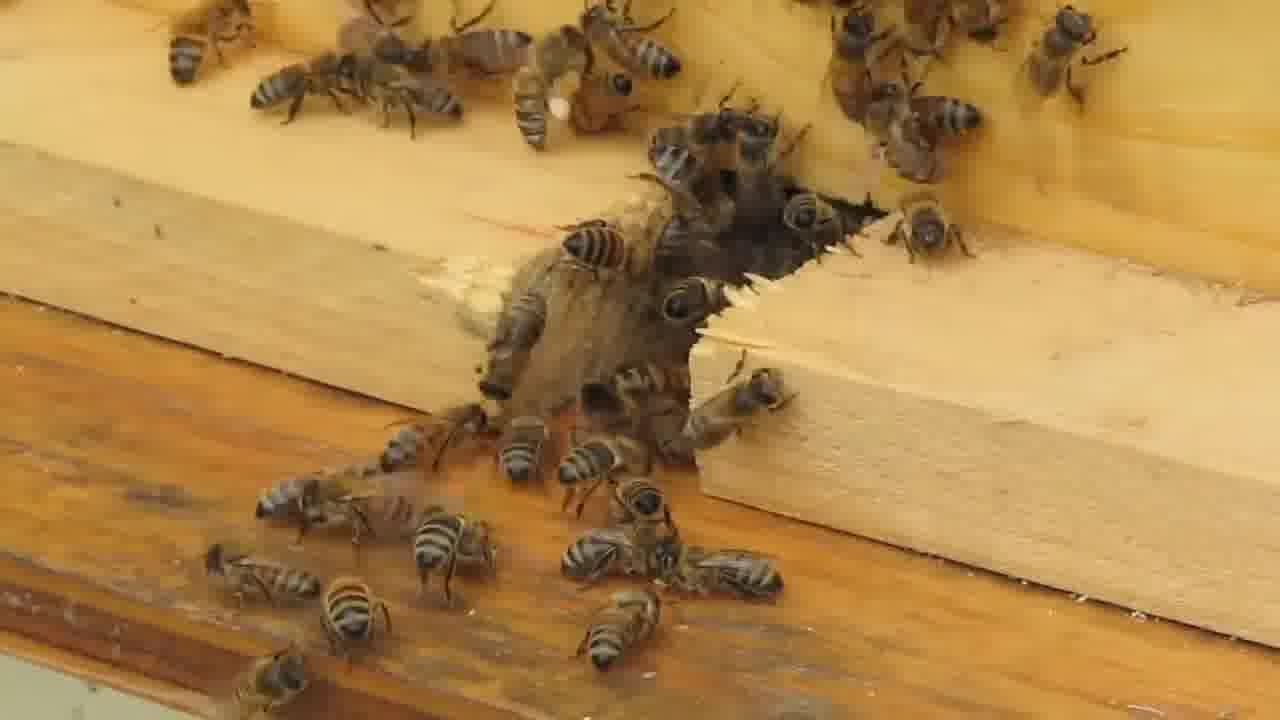pollen: (519, 22, 582, 156)
